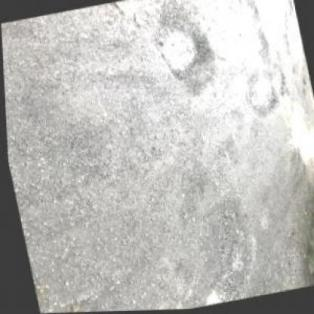Hueco: (146, 5, 220, 98), (240, 65, 282, 122), (221, 0, 263, 30), (249, 30, 273, 64)
